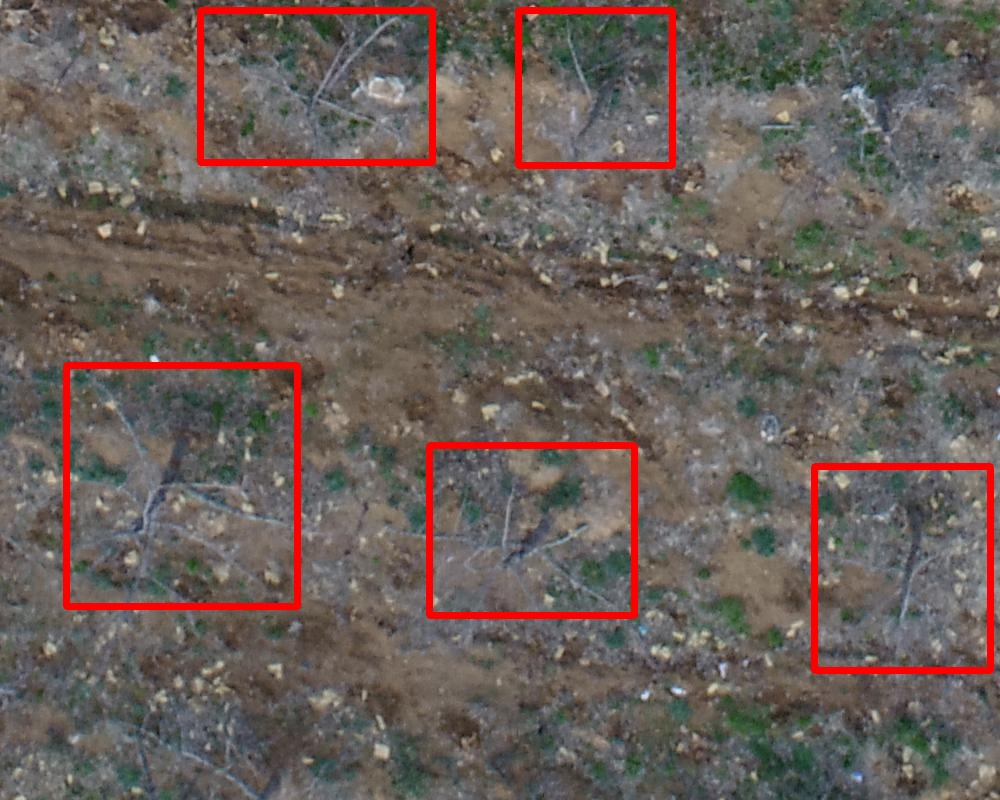apple: (66, 365, 297, 606), (814, 466, 990, 670), (200, 10, 432, 162), (429, 445, 634, 615), (518, 10, 672, 165)
